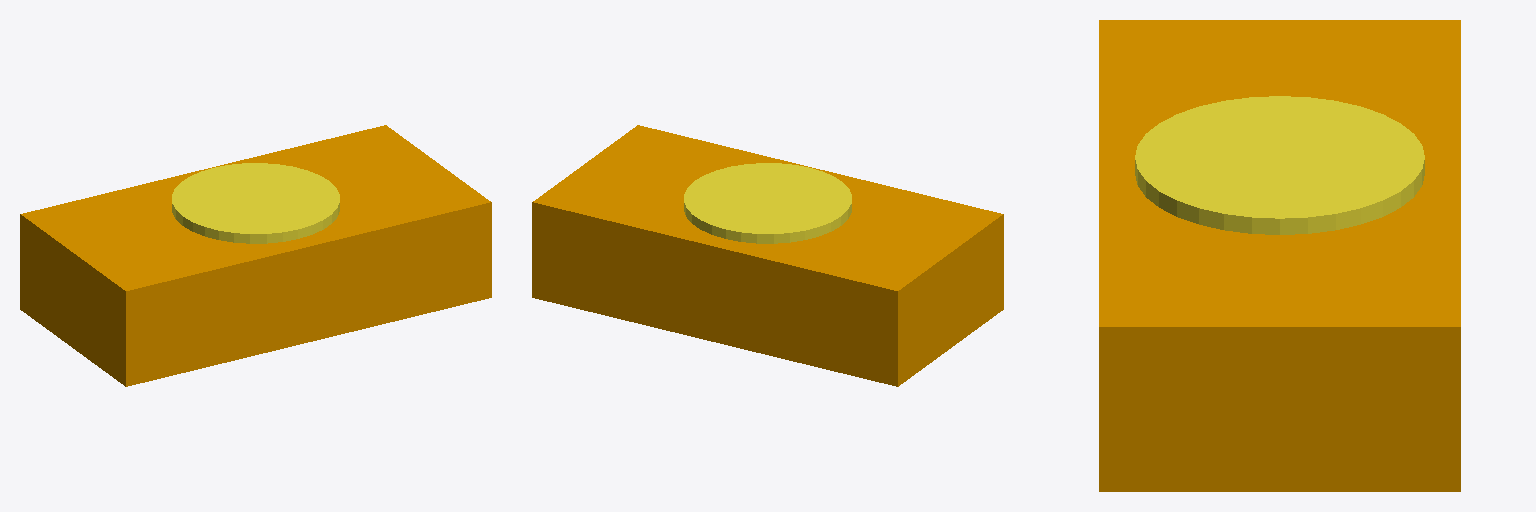
The robot description file, URDF, robot "sample_biped":
<?xml version="1.0"?>
<!--
  离线 dry-run 夹具：仅用于验证 ingest_oss_bom.mjs 的「解析 → 归一化 → 合并」链路，
  不代表任何真实机器人。故意混入一个语义不可判的 link（aux_module_x1），
  用来证明 category 推断失败时会如实落到 'unknown'，而不是被兜底猜成某个类目。
-->
<robot name="sample_biped">

  <link name="base_link">
    <visual>
      <geometry><box size="0.2 0.1 0.05"/></geometry>
      <material name="aluminum"/>
    </visual>
  </link>

  <link name="torso_imu_link">
    <visual>
      <geometry><mesh filename="package://sample/meshes/imu_bmi088.stl"/></geometry>
      <material name="black"/>
    </visual>
  </link>

  <link name="left_hip_servo_link">
    <visual>
      <geometry><mesh filename="package://sample/meshes/joint_actuator.stl"/></geometry>
      <material name="anodized"/>
    </visual>
  </link>

  <link name="head_lidar_link">
    <visual>
      <geometry><cylinder length="0.06" radius="0.04"/></geometry>
      <material name="black"/>
    </visual>
  </link>

  <link name="aux_module_x1">
    <visual>
      <geometry><box size="0.03 0.03 0.03"/></geometry>
    </visual>
  </link>

  <joint name="torso_imu_fixed" type="fixed">
    <parent link="base_link"/>
    <child link="torso_imu_link"/>
  </joint>

  <joint name="left_hip_pitch" type="revolute">
    <parent link="base_link"/>
    <child link="left_hip_servo_link"/>
    <limit effort="80" velocity="12.5" lower="-1.57" upper="1.57"/>
  </joint>

  <joint name="head_lidar_fixed" type="fixed">
    <parent link="base_link"/>
    <child link="head_lidar_link"/>
  </joint>

  <joint name="aux_mount" type="fixed">
    <parent link="base_link"/>
    <child link="aux_module_x1"/>
  </joint>

</robot>

--- What the picture shows (computed from the rendered views, not written in the file) ---
3 views of the same robot in one strip: view 1: azimuth 30°, elevation 25°; view 2: azimuth 150°, elevation 25°; view 3: azimuth 270°, elevation 25° (orthographic).
Robot: sample_biped — 5 links, 4 joints (1 revolute, 3 fixed); root link base_link; default pose: all joints at 0.
Visible links, largest first — view 1: base_link, head_lidar_link; view 2: base_link, head_lidar_link; view 3: base_link, head_lidar_link.
Boxes of the visible links, x1,y1,x2,y2 form: base_link: (20,125,491,386); head_lidar_link: (172,163,339,243); base_link: (532,125,1003,386); head_lidar_link: (684,163,851,243); base_link: (1099,20,1460,491); head_lidar_link: (1135,96,1424,234).
Size in the robot's own frame: 0.2 by 0.1 by 0.06 metres.
0 mesh visuals loaded from 2 distinct referenced files (none loaded); not drawn: 2 (reference not matched to a file when rendering).
